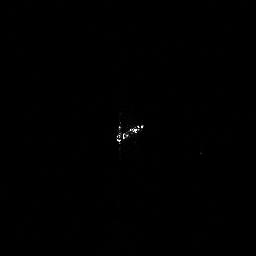ship: (114, 122, 145, 146)
